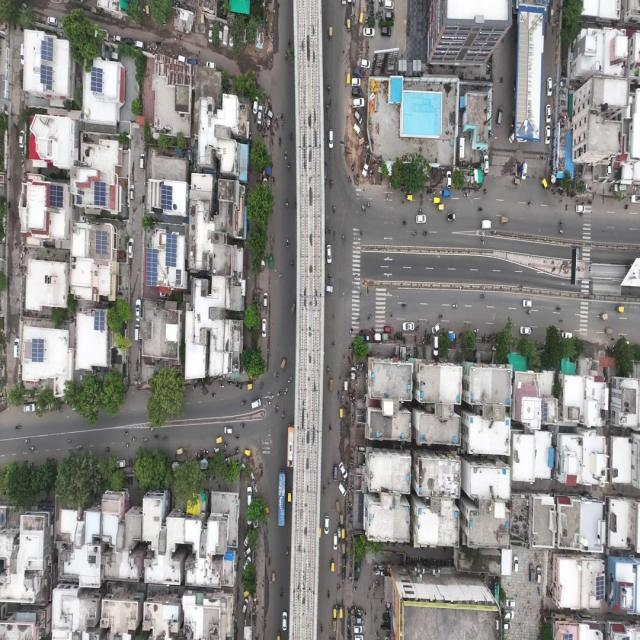3W: (598, 311, 612, 324), (336, 405, 346, 423), (614, 302, 626, 316), (337, 510, 346, 528), (540, 175, 549, 193), (334, 496, 342, 516), (329, 556, 336, 576), (289, 300, 296, 319), (328, 21, 333, 47), (340, 540, 347, 558), (346, 16, 353, 34), (345, 70, 352, 88), (246, 382, 256, 394), (243, 446, 252, 459), (328, 375, 334, 394), (332, 604, 339, 620), (280, 354, 287, 370), (286, 488, 292, 506), (341, 554, 347, 572), (406, 193, 415, 205), (341, 566, 346, 586), (436, 202, 446, 212), (214, 434, 223, 445), (357, 10, 364, 24), (176, 444, 184, 456), (339, 603, 344, 622), (432, 195, 442, 204), (332, 618, 337, 634), (341, 527, 346, 541), (604, 328, 614, 335)
Bus: (278, 468, 286, 529), (286, 421, 295, 473)
Cars: (12, 334, 21, 364), (534, 561, 543, 590), (516, 322, 532, 338), (325, 242, 335, 266), (134, 293, 142, 322), (503, 608, 517, 624), (560, 325, 574, 341), (614, 180, 628, 196), (338, 459, 348, 481), (242, 554, 254, 572), (18, 125, 26, 152), (495, 104, 504, 128), (350, 96, 366, 109), (21, 402, 38, 414), (128, 233, 135, 261), (261, 312, 268, 340), (106, 47, 120, 61), (327, 124, 334, 152), (362, 24, 376, 38), (322, 512, 330, 536), (402, 320, 414, 336), (432, 335, 441, 356), (544, 122, 552, 145), (222, 422, 234, 437), (337, 480, 347, 498), (352, 614, 367, 626), (19, 38, 25, 68), (352, 65, 364, 80), (245, 484, 252, 509), (257, 102, 264, 127), (547, 75, 553, 104), (353, 621, 363, 638), (250, 396, 263, 409), (175, 52, 188, 65), (382, 324, 395, 337), (114, 456, 128, 468), (205, 58, 217, 72), (208, 19, 214, 47), (352, 110, 364, 124), (430, 320, 442, 334), (506, 595, 517, 610), (529, 560, 535, 587), (513, 551, 520, 574), (545, 102, 552, 125), (324, 280, 334, 296), (349, 87, 365, 97), (46, 14, 59, 26), (133, 38, 145, 51), (187, 53, 199, 66), (383, 0, 396, 12), (414, 212, 426, 225), (263, 106, 274, 120), (360, 56, 371, 70), (352, 122, 361, 139), (241, 597, 249, 616), (281, 608, 287, 633), (18, 68, 24, 93), (252, 95, 258, 120), (520, 298, 535, 308), (332, 528, 338, 552), (385, 10, 397, 22), (380, 26, 392, 38), (133, 322, 140, 342), (502, 620, 512, 634), (446, 170, 452, 193), (243, 532, 251, 549), (268, 252, 275, 271), (223, 25, 229, 47), (483, 152, 489, 173), (509, 129, 516, 147), (351, 77, 362, 88), (121, 36, 133, 46), (262, 290, 268, 309), (575, 203, 585, 214), (630, 193, 639, 205), (333, 463, 338, 484), (112, 32, 121, 42), (244, 547, 251, 559), (606, 162, 612, 176)
LCV: (360, 152, 372, 179), (446, 209, 457, 226)
M2W: (449, 300, 462, 316), (524, 196, 536, 211), (278, 584, 286, 604), (435, 310, 447, 323), (285, 36, 293, 54), (553, 301, 563, 315), (349, 158, 356, 177), (14, 421, 24, 434), (327, 420, 334, 438), (400, 300, 409, 314), (327, 175, 334, 193), (286, 372, 294, 387), (283, 384, 291, 399), (326, 584, 332, 604), (556, 216, 566, 228), (524, 305, 534, 317), (331, 199, 338, 216), (280, 406, 287, 422), (365, 197, 372, 213), (288, 257, 296, 271), (556, 225, 566, 236), (238, 378, 244, 396), (239, 419, 248, 431), (292, 199, 299, 214), (142, 434, 150, 447), (272, 404, 280, 417), (325, 100, 331, 117), (232, 433, 242, 443), (365, 311, 375, 321), (208, 390, 216, 402), (274, 387, 282, 399), (337, 386, 343, 402), (356, 312, 362, 328), (318, 621, 326, 633), (287, 128, 293, 144), (326, 269, 334, 281), (284, 196, 290, 212), (400, 217, 408, 229), (327, 472, 332, 491), (122, 426, 129, 439), (226, 378, 233, 391), (240, 397, 247, 410), (330, 337, 337, 350), (359, 203, 366, 216), (285, 238, 292, 251), (480, 290, 487, 303), (103, 445, 112, 455), (348, 172, 354, 187), (327, 222, 333, 237), (478, 204, 487, 214), (29, 443, 36, 455), (153, 428, 159, 442), (283, 149, 289, 163), (409, 228, 418, 237), (74, 441, 82, 451), (286, 159, 291, 175), (274, 371, 280, 384), (326, 364, 332, 377), (326, 85, 332, 98), (124, 439, 131, 450), (130, 435, 137, 446), (322, 482, 326, 501), (162, 432, 168, 444), (284, 544, 290, 556), (283, 50, 289, 62), (348, 325, 355, 335), (340, 232, 347, 242), (278, 135, 283, 149), (464, 188, 469, 202), (66, 437, 72, 448), (259, 380, 265, 391), (268, 392, 274, 402), (218, 381, 225, 389), (23, 438, 32, 444), (236, 378, 239, 395), (423, 229, 428, 237)
